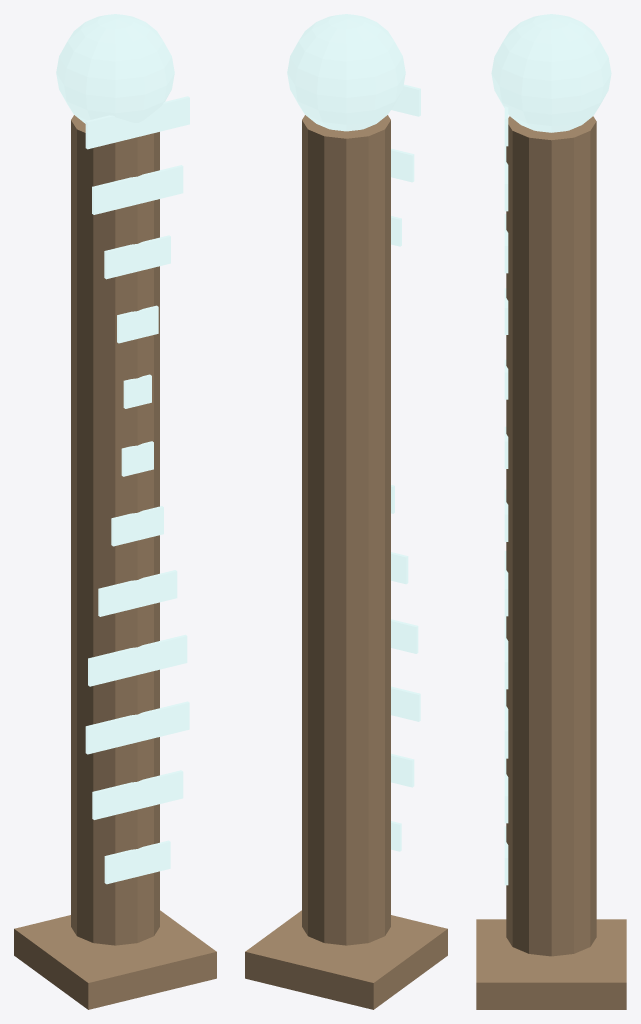
File: WaveformPillar.fbx
3 renders of one model, left to right at view 1: azimuth 30°, elevation 25°; view 2: azimuth 150°, elevation 25°; view 3: azimuth 270°, elevation 25°, orthographic.
Visible parts, largest first — view 1: WaveformPillar; view 2: WaveformPillar; view 3: WaveformPillar.
Boxes of the visible parts, bbox=[...] form: WaveformPillar: bbox=[14, 14, 216, 1009]; WaveformPillar: bbox=[245, 14, 447, 1009]; WaveformPillar: bbox=[476, 14, 626, 1009].
Size of the model in its own units: 20 by 141 by 20.
